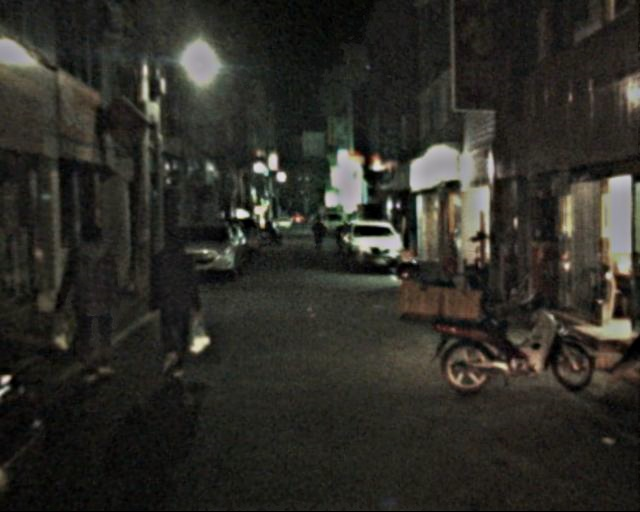person: (59, 222, 133, 381), (143, 228, 207, 386), (309, 217, 328, 263)
